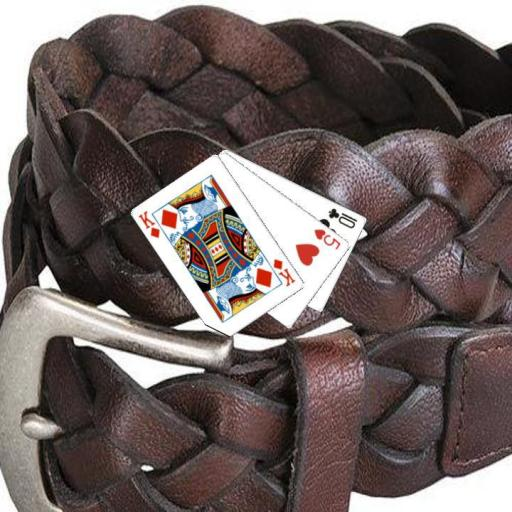10C: (325, 205, 359, 230)
5H: (311, 225, 343, 251)
KD: (270, 255, 297, 288), (135, 208, 162, 240)
